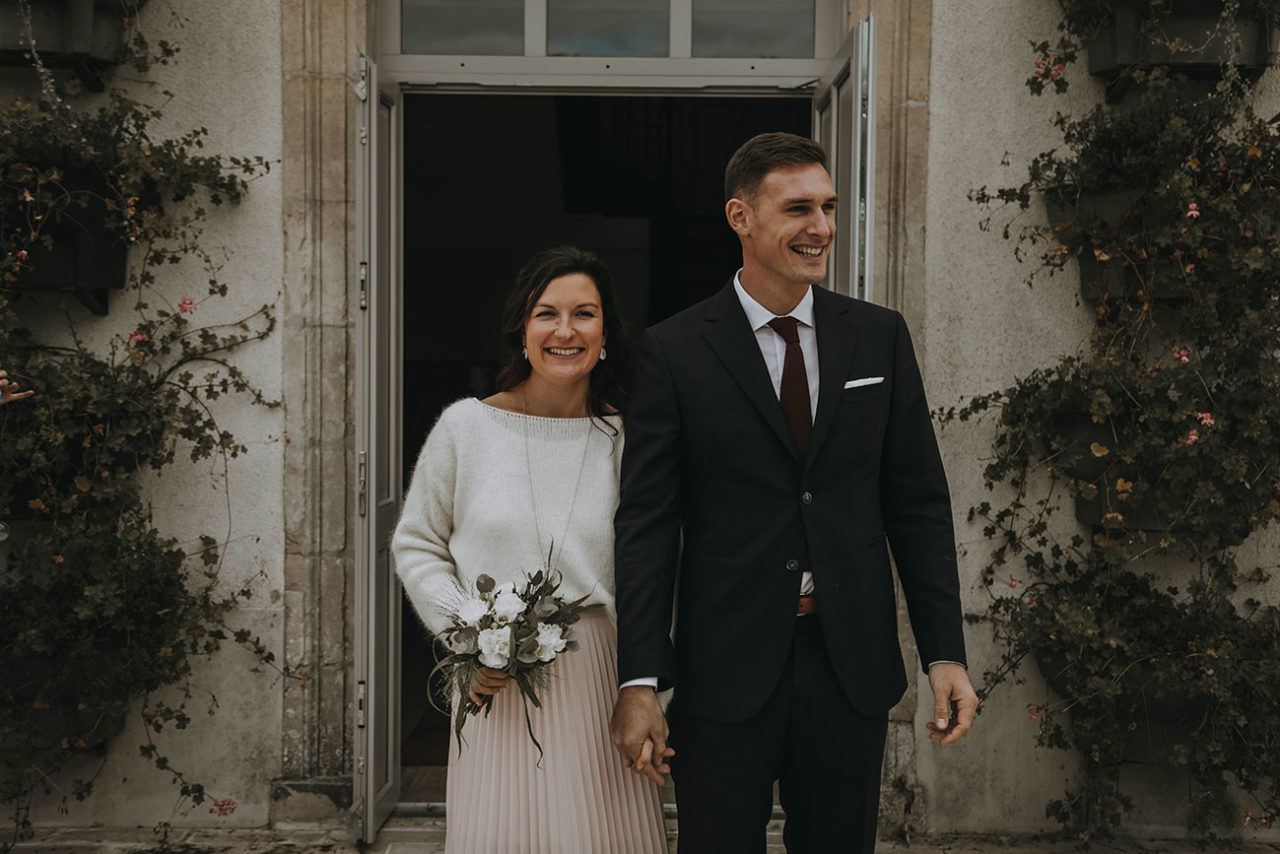without_mask: (727, 164, 837, 288), (519, 260, 616, 380)
